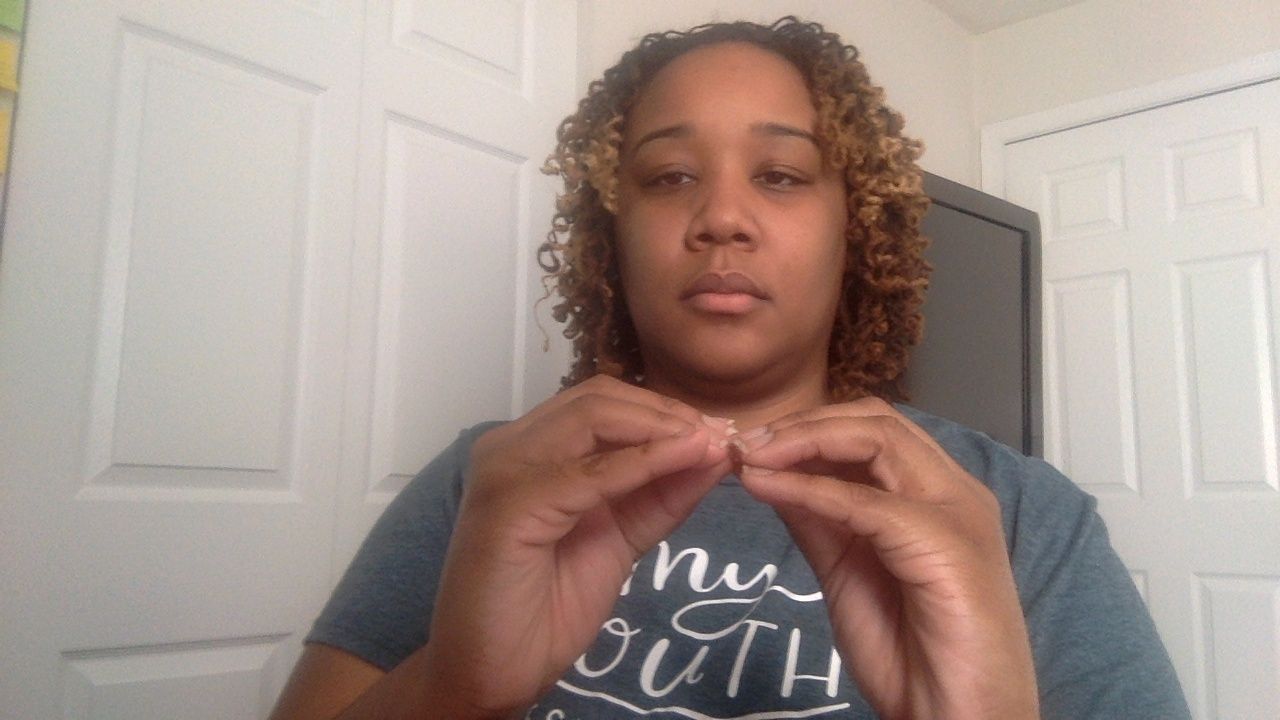more: (429, 374, 1046, 720)
